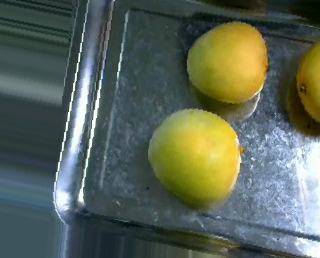Mango: (145, 106, 245, 203), (181, 22, 271, 104), (293, 38, 320, 122)
